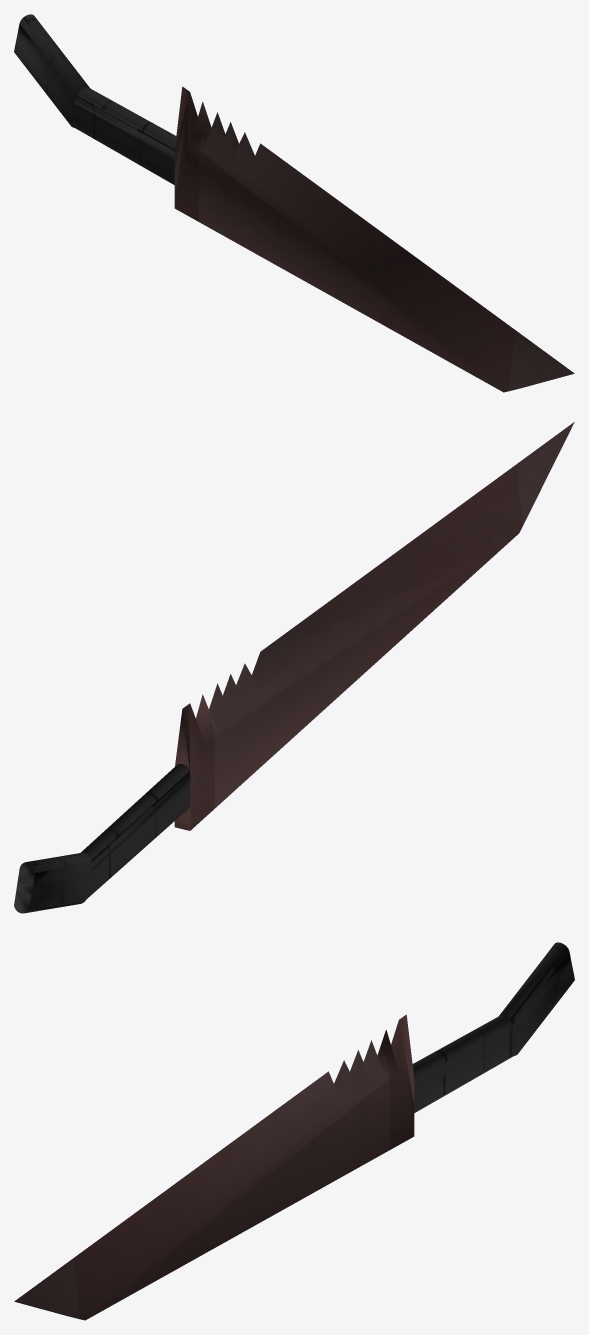
Rendered from model_scale.obj.
The picture shows the model from 3 angles, top to bottom: view 1: azimuth 30°, elevation 25°; view 2: azimuth 150°, elevation 25°; view 3: azimuth 330°, elevation 25°; orthographic projection.
Parts seen in each view (by area): view 1: mesh1_mesh1-geometry; view 2: mesh1_mesh1-geometry; view 3: mesh1_mesh1-geometry.
Boxes of the visible parts, <box> form: mesh1_mesh1-geometry: <box>14,14,574,392</box>; mesh1_mesh1-geometry: <box>14,422,574,913</box>; mesh1_mesh1-geometry: <box>14,942,574,1320</box>.
Bounding box in the file's own units: 0.00387 × 0.0284 × 0.2372.
2 materials, 2 textured.
